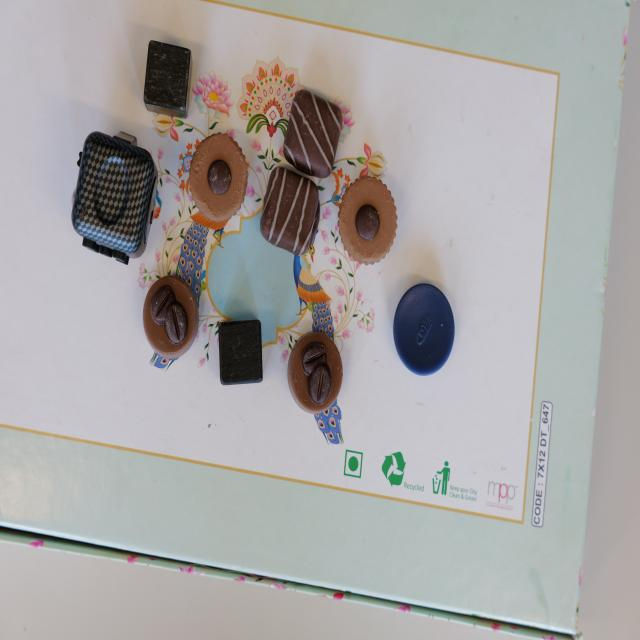Arabia: (286, 329, 344, 412), (141, 274, 198, 356)
Noblesse: (337, 176, 399, 261), (188, 134, 248, 220)
Stracciatella: (260, 166, 320, 259), (283, 90, 344, 178)
